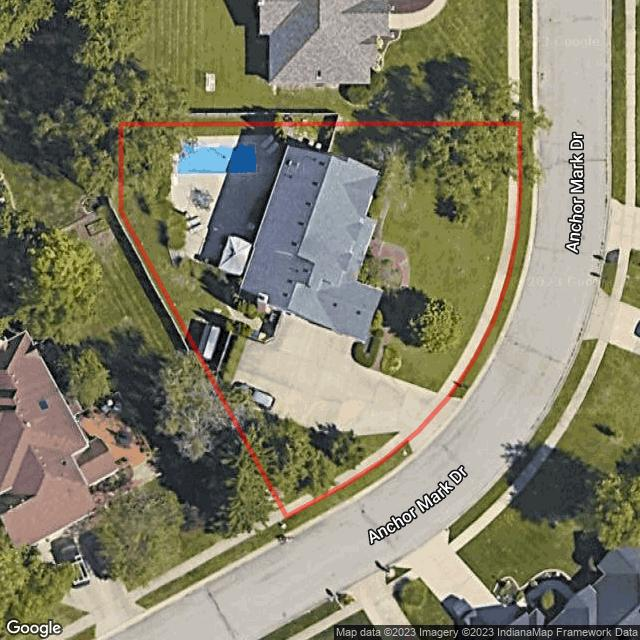Driveway: (234, 312, 444, 439)
Extra Driveway: (410, 399, 461, 452)
Extra Lawn: (451, 122, 533, 398), (287, 443, 413, 529)
House: (237, 146, 381, 341)
Other: (163, 134, 291, 281), (198, 324, 221, 360), (254, 389, 274, 408)
Sidewalk: (437, 126, 518, 397), (283, 431, 406, 515), (368, 239, 411, 373), (217, 269, 284, 342)
